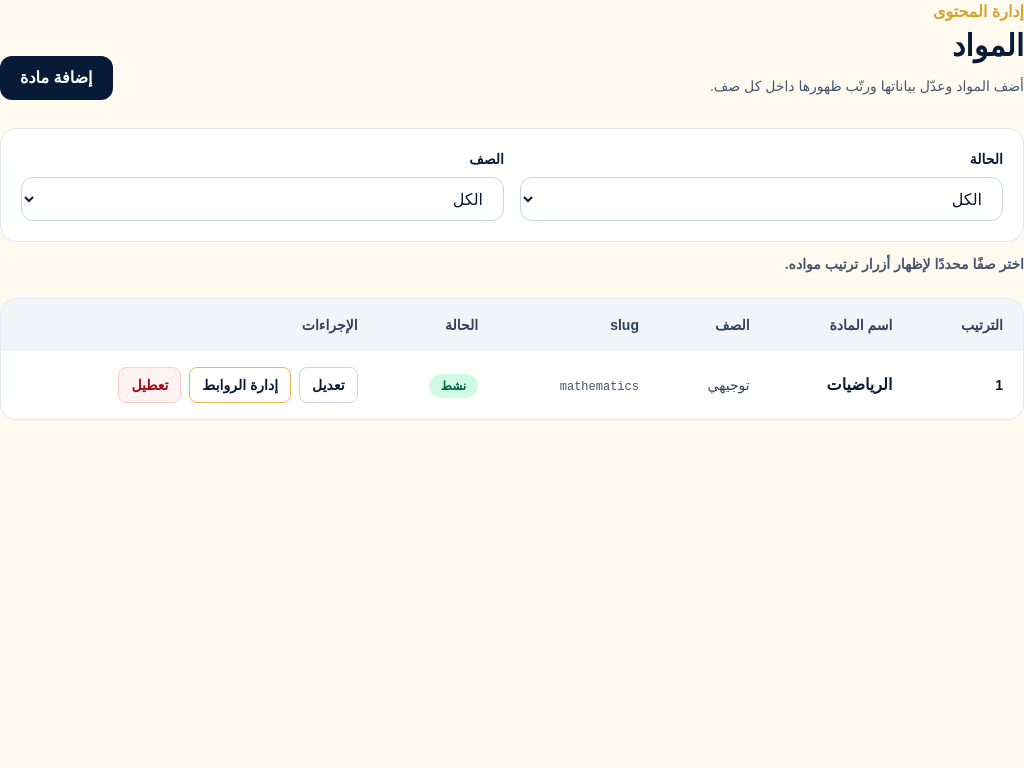
it: AdminSubjectsPage › renders backend conflicts safely and redirects unauthorized requests
Click the button "إضافة مادة" at (56,78), box [0,56,112,100]
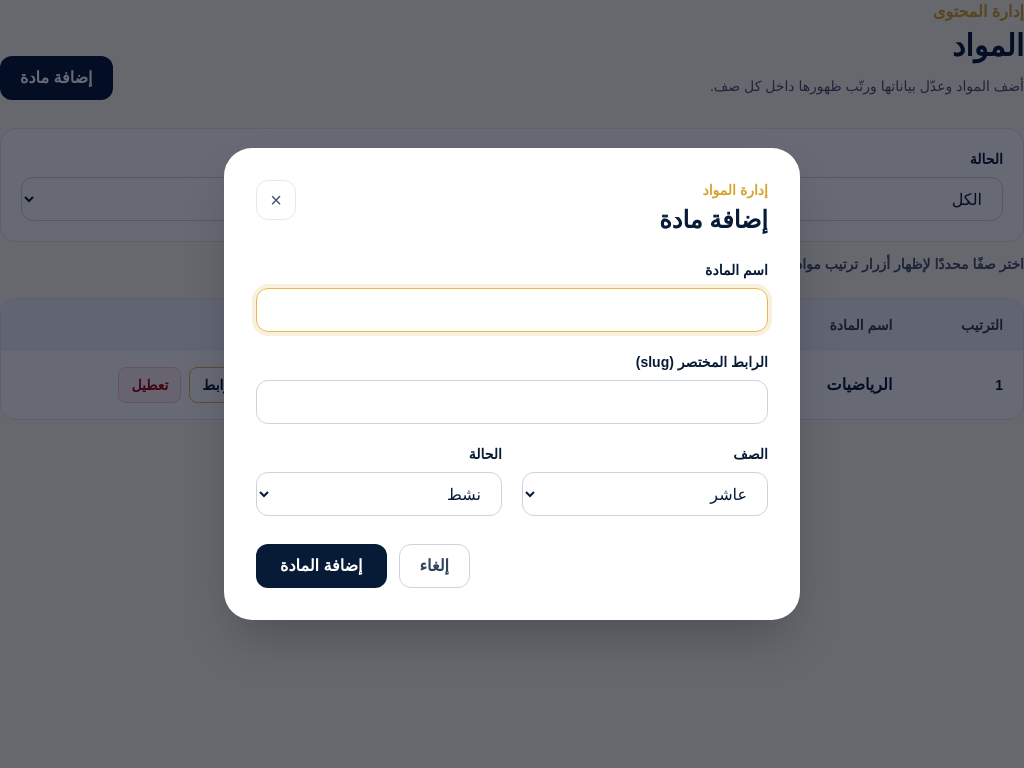
Type "أحياء" into the field labelled "اسم المادة" at (512,310), box [256,288,768,332]
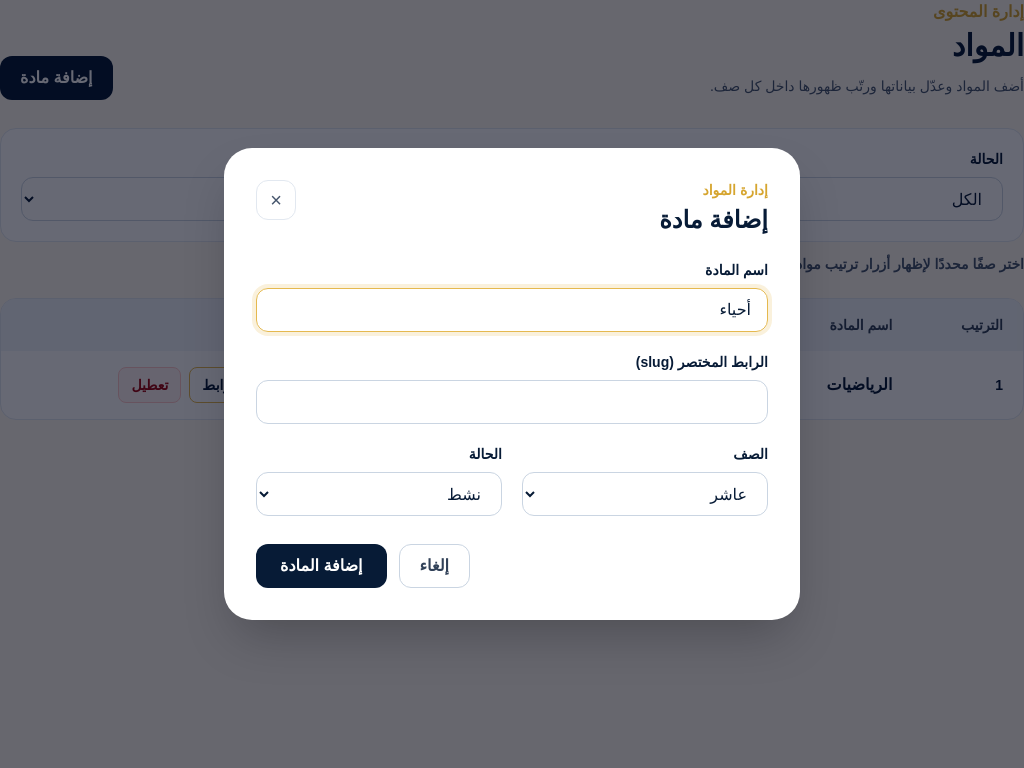
Type "biology" into the field labelled "الرابط المختصر (slug)" at (512,402), box [256,380,768,424]
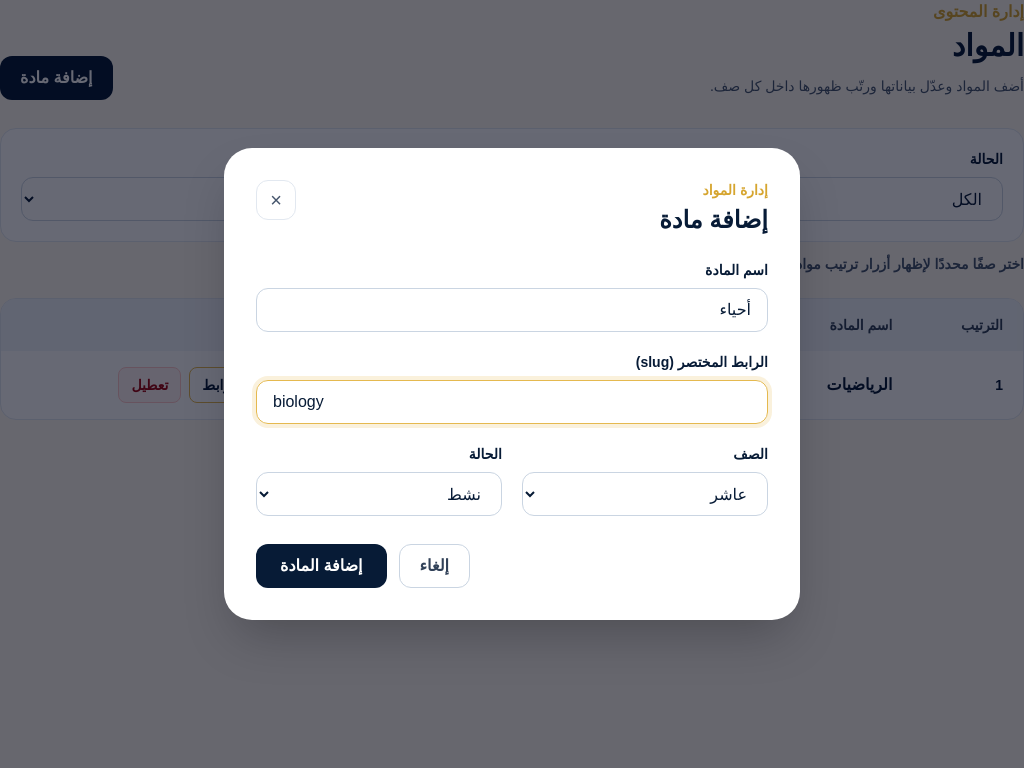
Click the button "إضافة المادة" at (321,566), box [256,544,386,588]
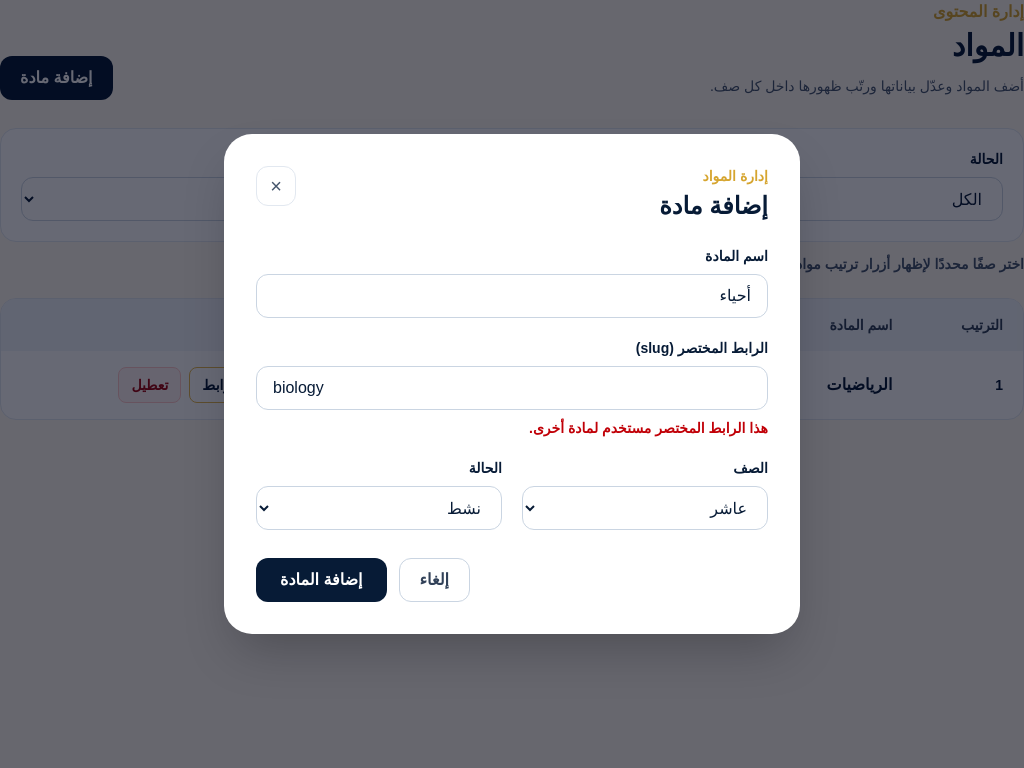
Expected: the text "هذا الرابط المختصر مستخدم لمادة أخرى." is shown, [529,420,768,436]
